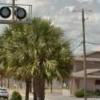Palm tree: (6, 12, 61, 99)
